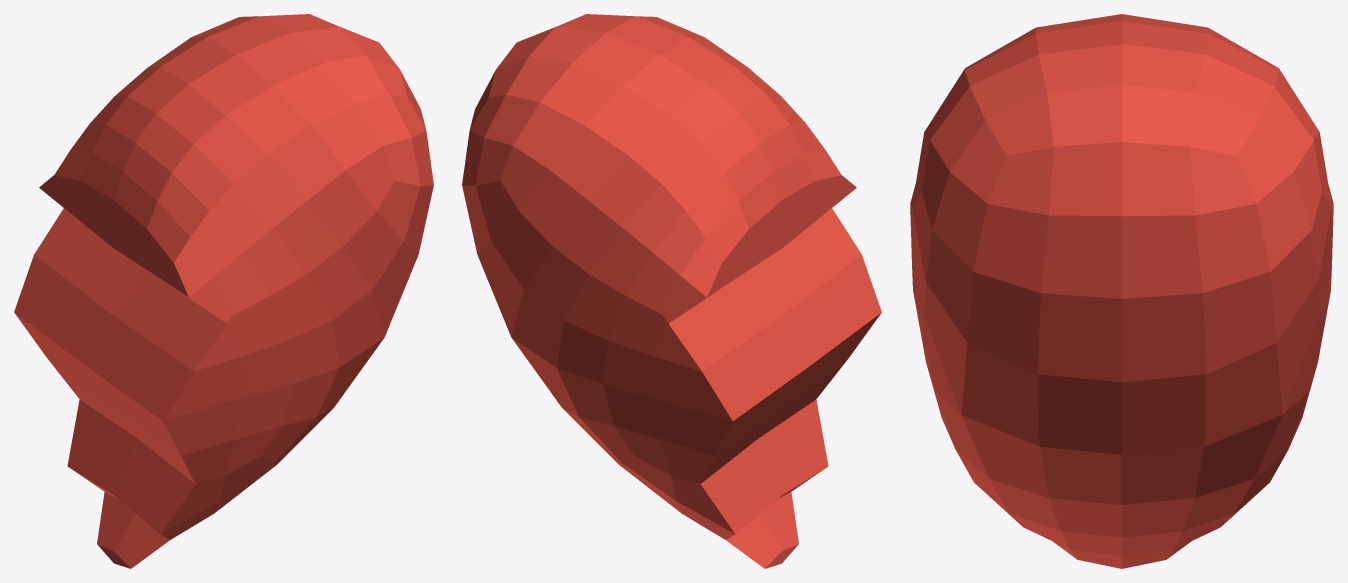
The model's file is heart_half.glb.
3 renders of one model, left to right at view 1: azimuth 30°, elevation 25°; view 2: azimuth 150°, elevation 25°; view 3: azimuth 270°, elevation 25°, orthographic. The views are drawn at different scales.
Parts seen in each view (by area): view 1: Heart_Half; view 2: Heart_Half; view 3: Heart_Half.
Boxes of the visible parts, bbox=[...] form: Heart_Half: bbox=[14, 14, 433, 568]; Heart_Half: bbox=[462, 14, 881, 568]; Heart_Half: bbox=[910, 14, 1333, 568].
Size of the model in its own units: 0.4365 by 0.6522 by 0.3927.
